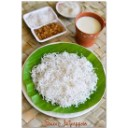idiyappam: (36, 52, 97, 105)
